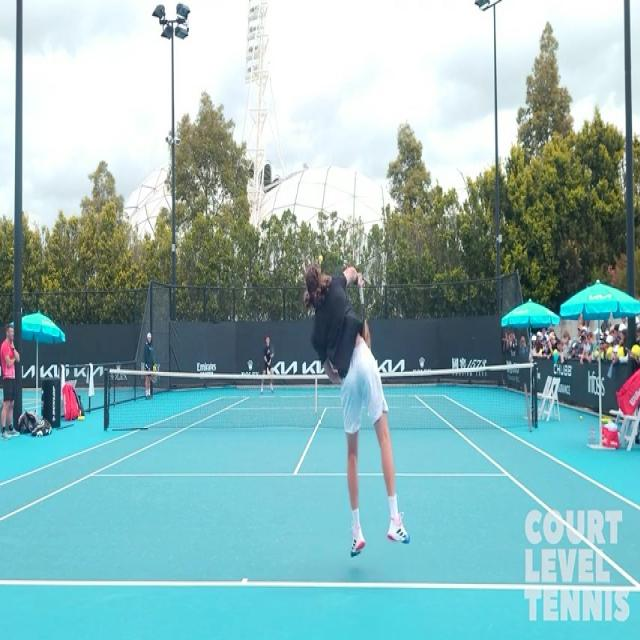serve_followthrough: (296, 251, 405, 570)
